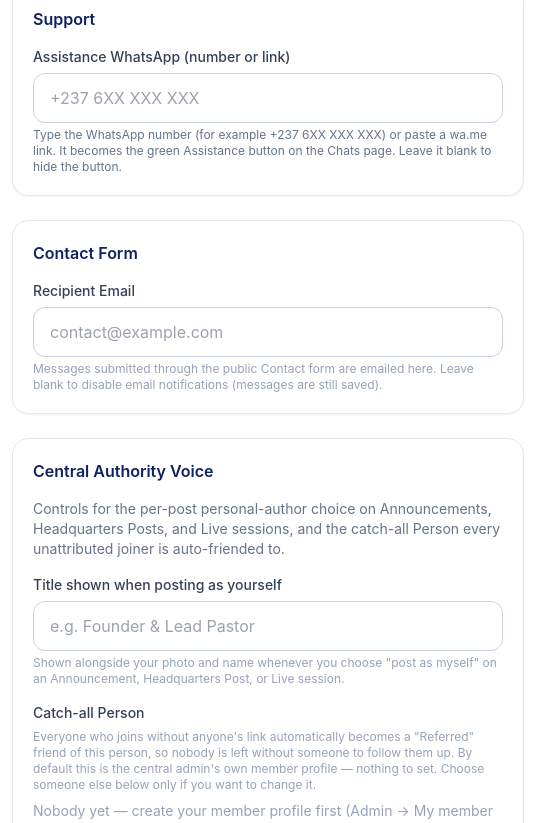
Scenario: Admin → Settings: the assistance WhatsApp › turns a typed number into a wa.me link, and a blank link is sent as null so it can be removed
Later steps or results of the test are not shown.
In the field labelled "Assistance WhatsApp (number or link)": (268, 98) [33, 73, 503, 123], type "+237 670 00 00 00"
(page scrolled)
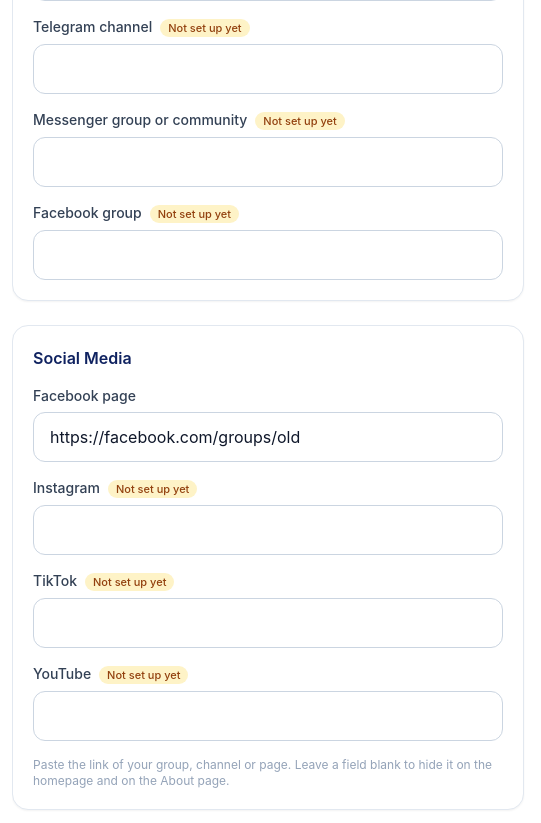
Expected: the field labelled "Facebook page" holds "https://facebook.com/groups/old", [33, 412, 503, 462]
